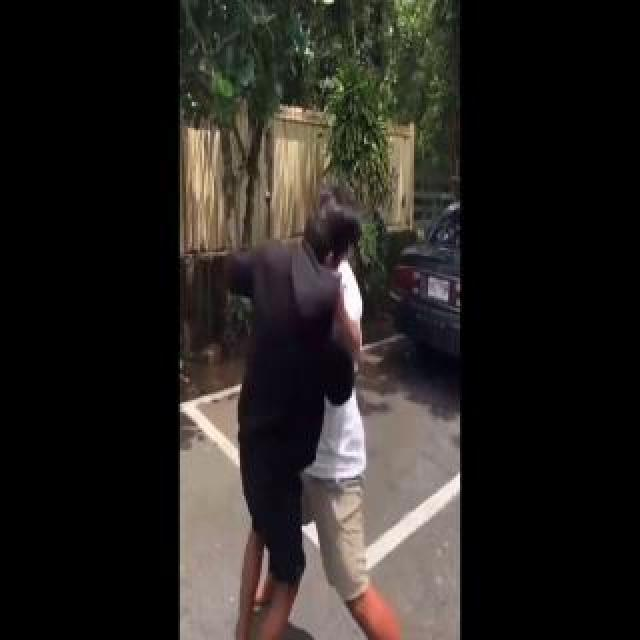fight: (197, 182, 413, 640)
